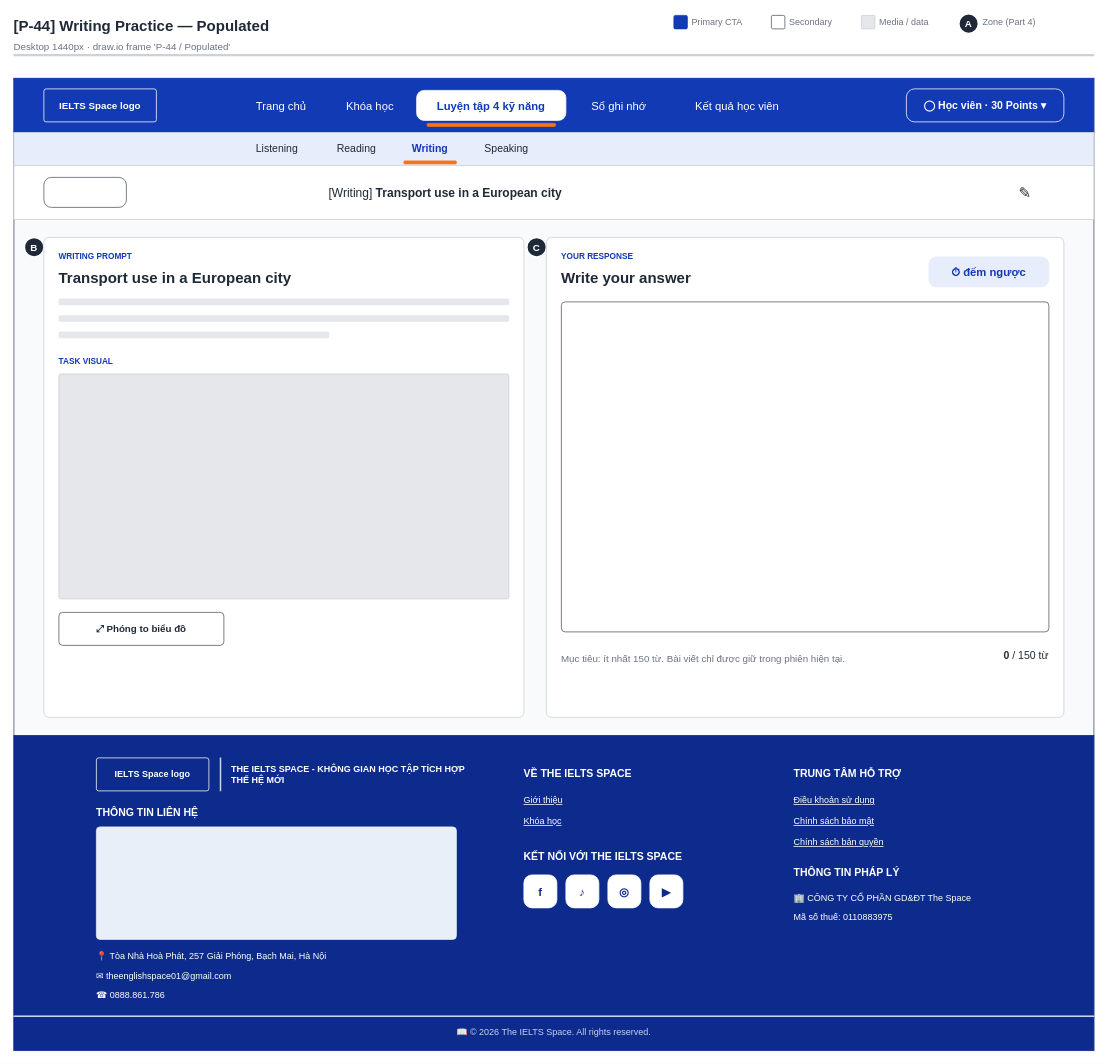
The diagram is 1108 pixels wide and 1064 high, and some of its shapes have lost their labels. The centre of each missing label's shape, as x and y in pixels:
"Start writing your response here…" goes at [805,466].
"← Thoát" goes at [84,192].
"▨ Bar chart (SVG) · legend Car / Bus / Bicycle …" goes at [283,486].
"📍 The IELTS Space Mở trong Maps ↗" goes at [276,882].
